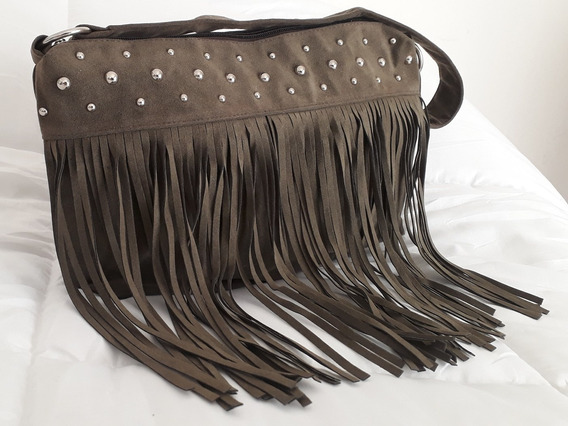cartera: (30, 7, 467, 300)
